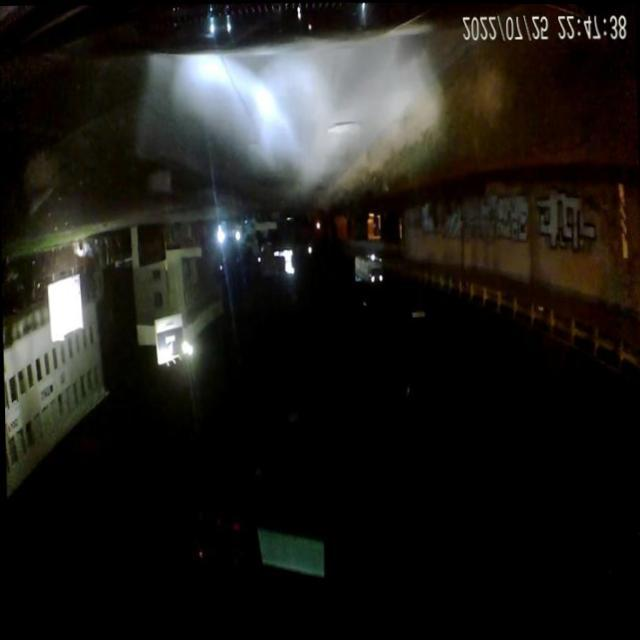Potholes: (327, 110, 368, 146)
